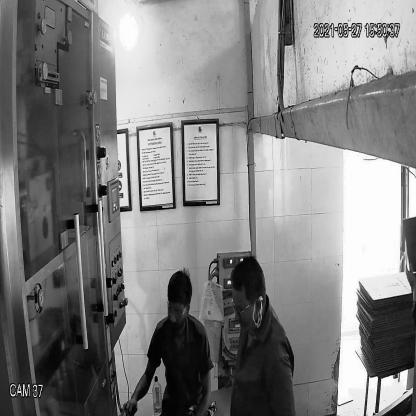goggles: (166, 297, 191, 321)
